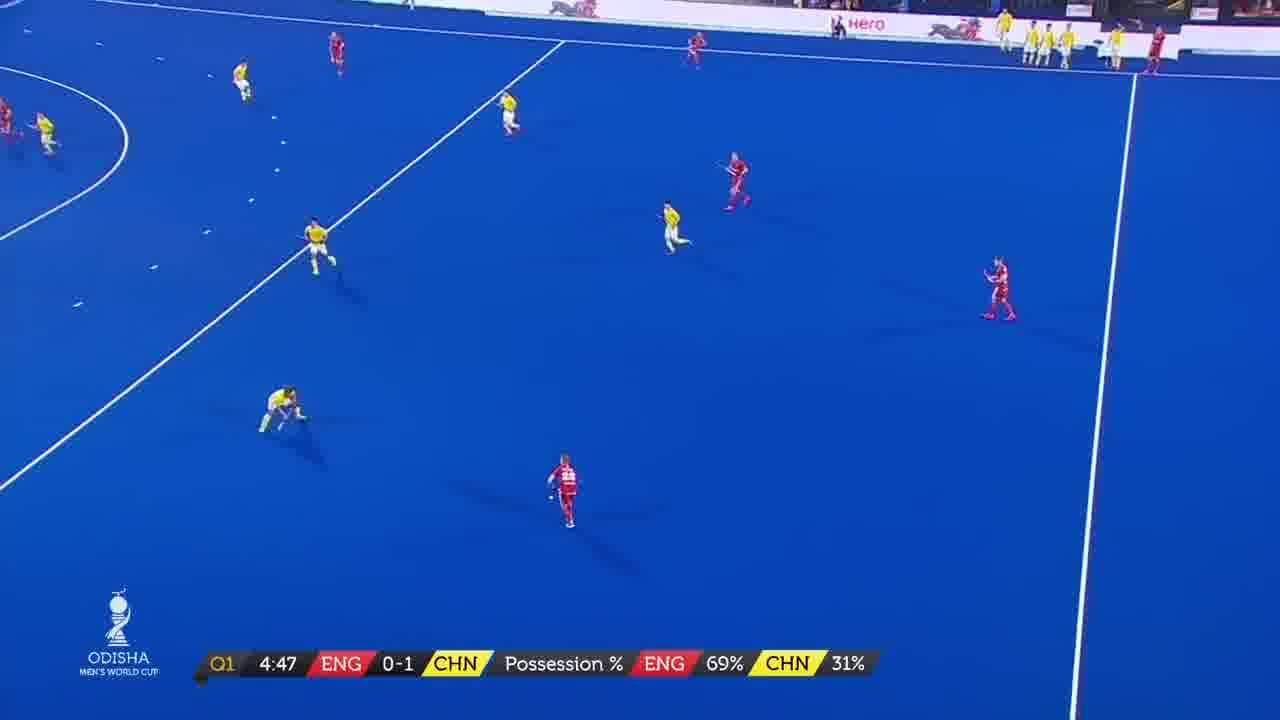ball: (544, 489, 560, 505)
